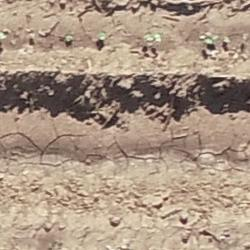cotton: (207, 35, 216, 44), (155, 31, 161, 41), (223, 35, 230, 43), (64, 35, 72, 42), (147, 35, 154, 42), (99, 32, 105, 40), (1, 33, 6, 40)
